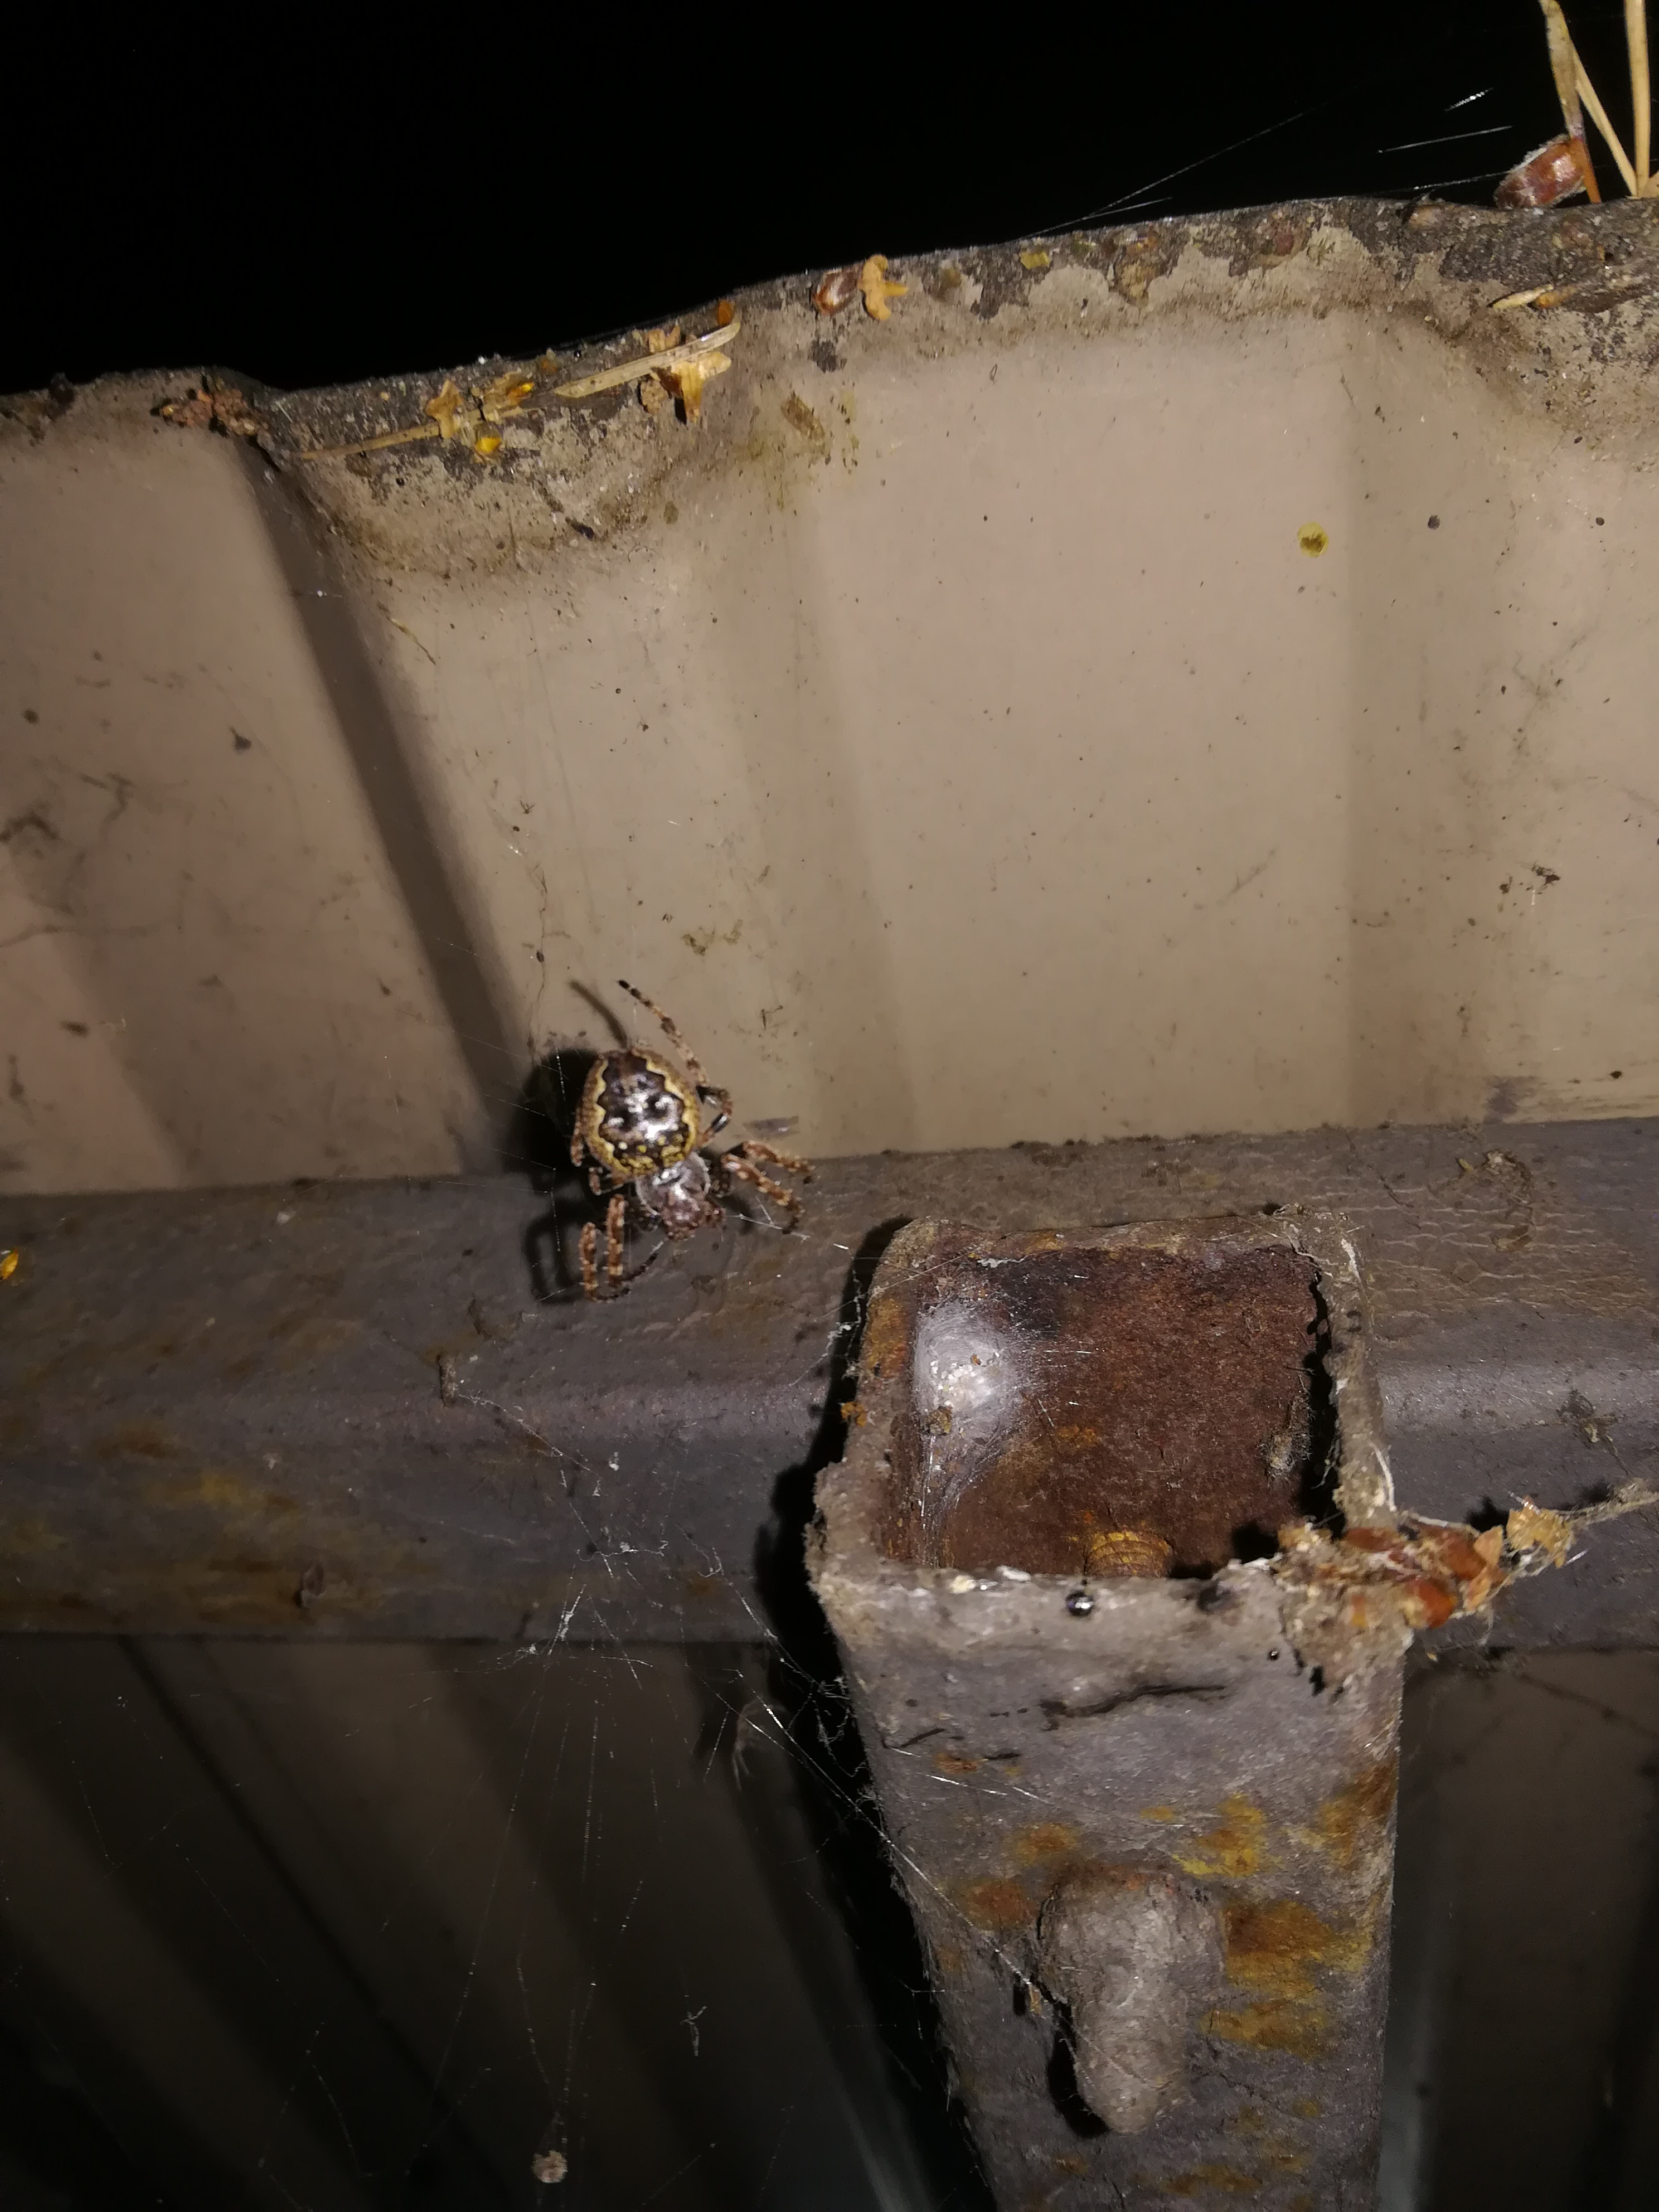spider: (471, 951, 861, 1329)
